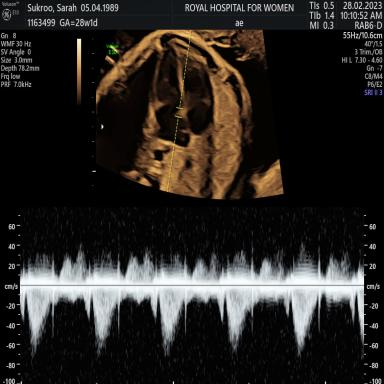Ultrasound-Waves: (26, 207, 362, 384)
